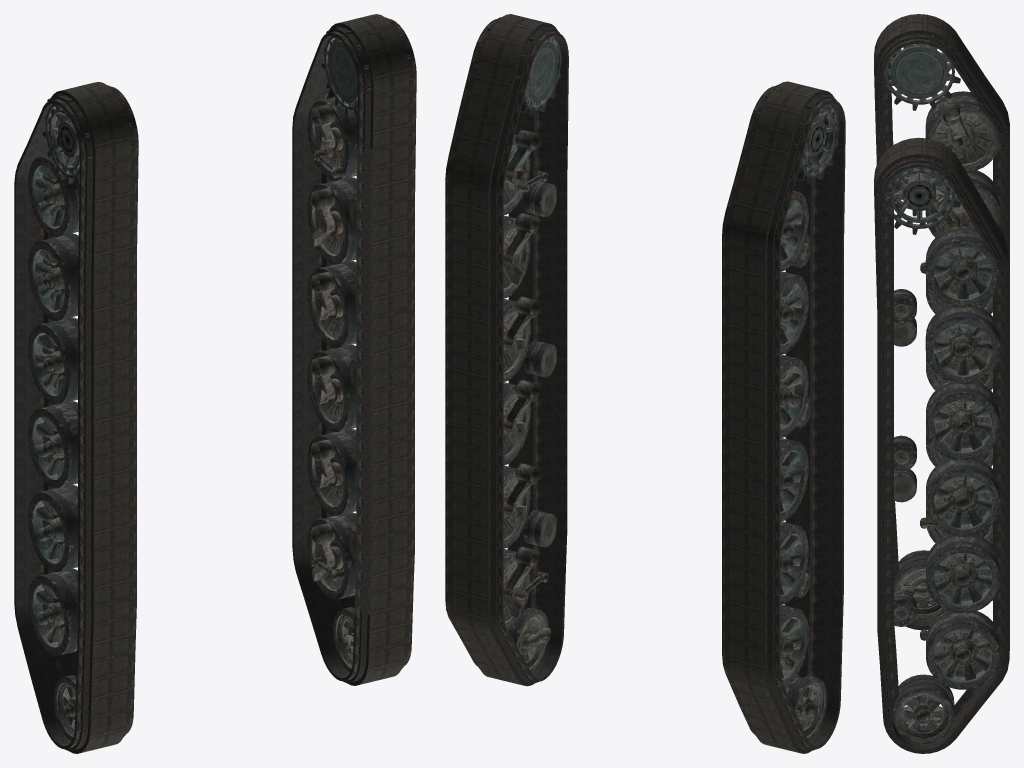
Rendered from Chassis.glb.
3 views of the same model, side by side, from view 1: azimuth 30°, elevation 25°; view 2: azimuth 150°, elevation 25°; view 3: azimuth 270°, elevation 25° (orthographic). The views are drawn at different scales.
Visible parts, largest first — view 1: set_1_group_0, set_0_group_0, set_2_group_0, set_3_group_0; view 2: set_0_group_0, set_1_group_0, set_3_group_0, set_2_group_0; view 3: set_3_group_0, set_1_group_0, set_2_group_0, set_0_group_0.
Part boxes in pixels (<box>): set_1_group_0: <box>292,14,416,685</box>; set_0_group_0: <box>14,81,138,753</box>; set_2_group_0: <box>28,88,133,740</box>; set_3_group_0: <box>307,20,412,672</box>; set_0_group_0: <box>722,81,845,753</box>; set_1_group_0: <box>445,14,568,686</box>; set_3_group_0: <box>474,17,561,672</box>; set_2_group_0: <box>752,85,839,740</box>; set_3_group_0: <box>877,157,1000,743</box>; set_1_group_0: <box>874,137,1009,753</box>; set_2_group_0: <box>877,33,1000,619</box>; set_0_group_0: <box>874,14,1009,630</box>.
Size of the model in its own units: 2.94 by 5.52 by 1.13.
Materials: 4 (4 with a texture image).
